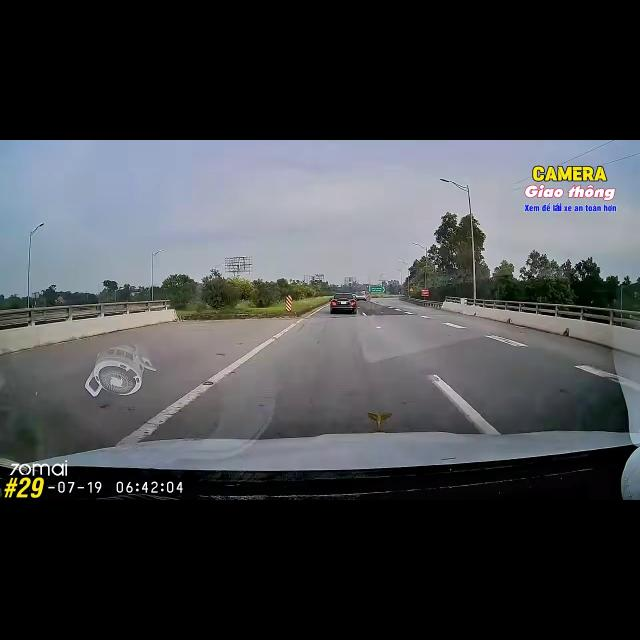car: (330, 293, 356, 314), (354, 293, 366, 300)
